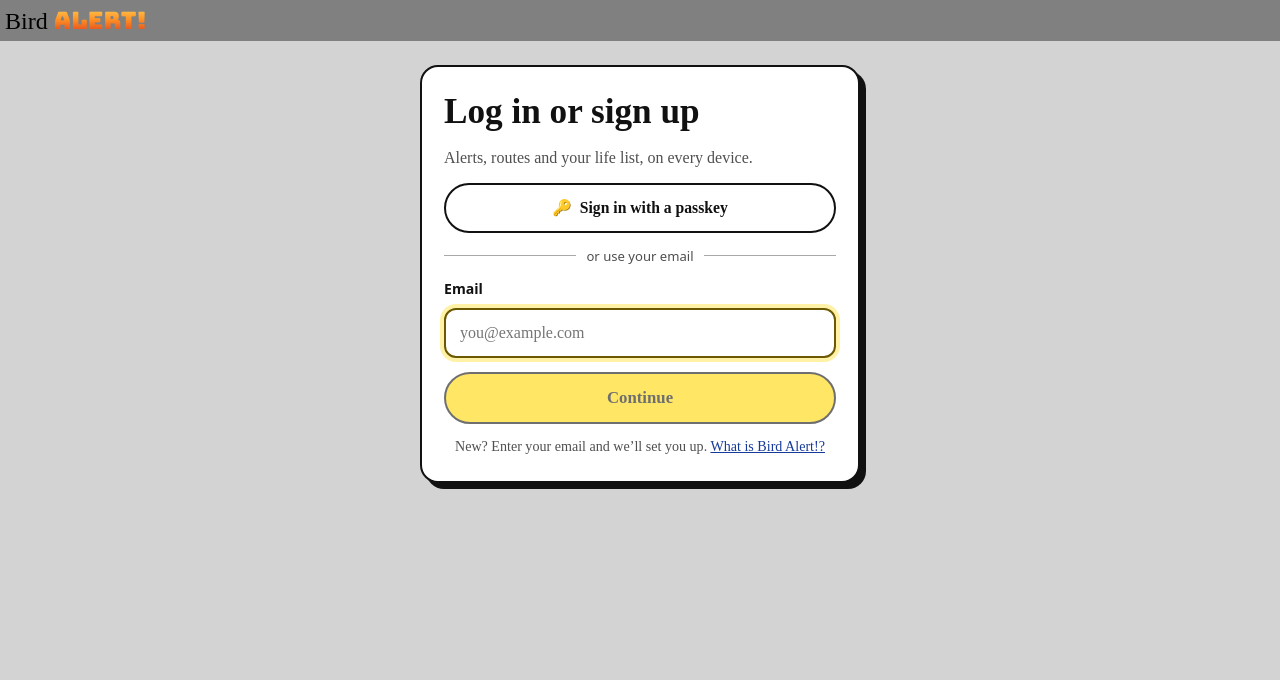
Test: Watch list sightings page › explains a link that names nothing
Type "robin@example.com" into the field with class "email" at (640, 333), box 444,308 -> 836,358
Then press Enter
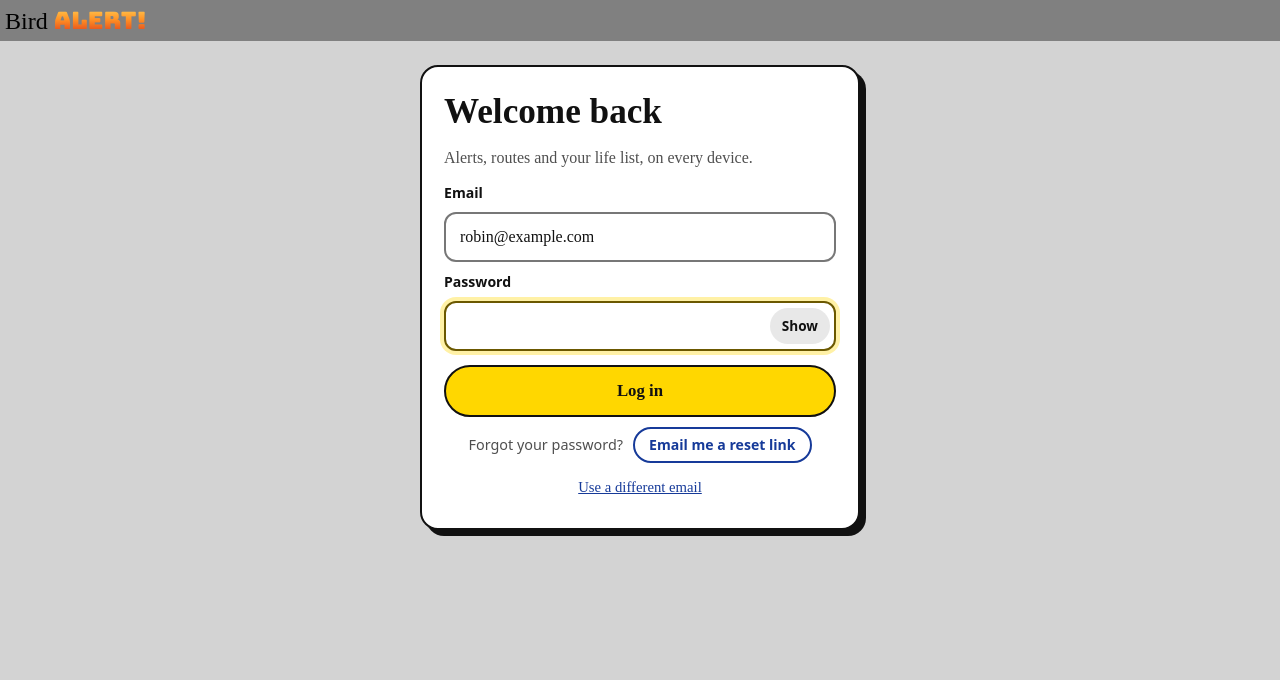
Now the password field labelled "Password" is shown
Type "1234" into the password field labelled "Password" at (640, 326), box 444,301 -> 836,351
Then press Enter
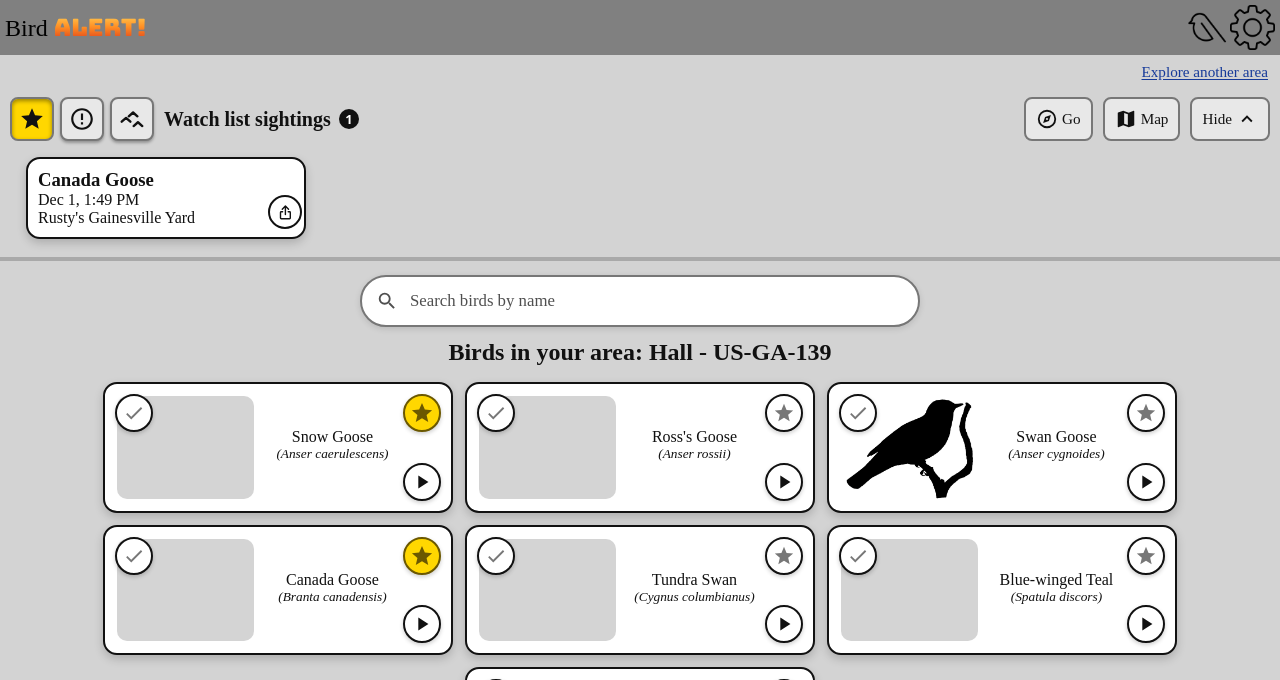
Now the element showing "Snow Goose (Anser caerulescens)" is shown, box 103,382 -> 453,513
Open "http://localhost:3000/sightings"
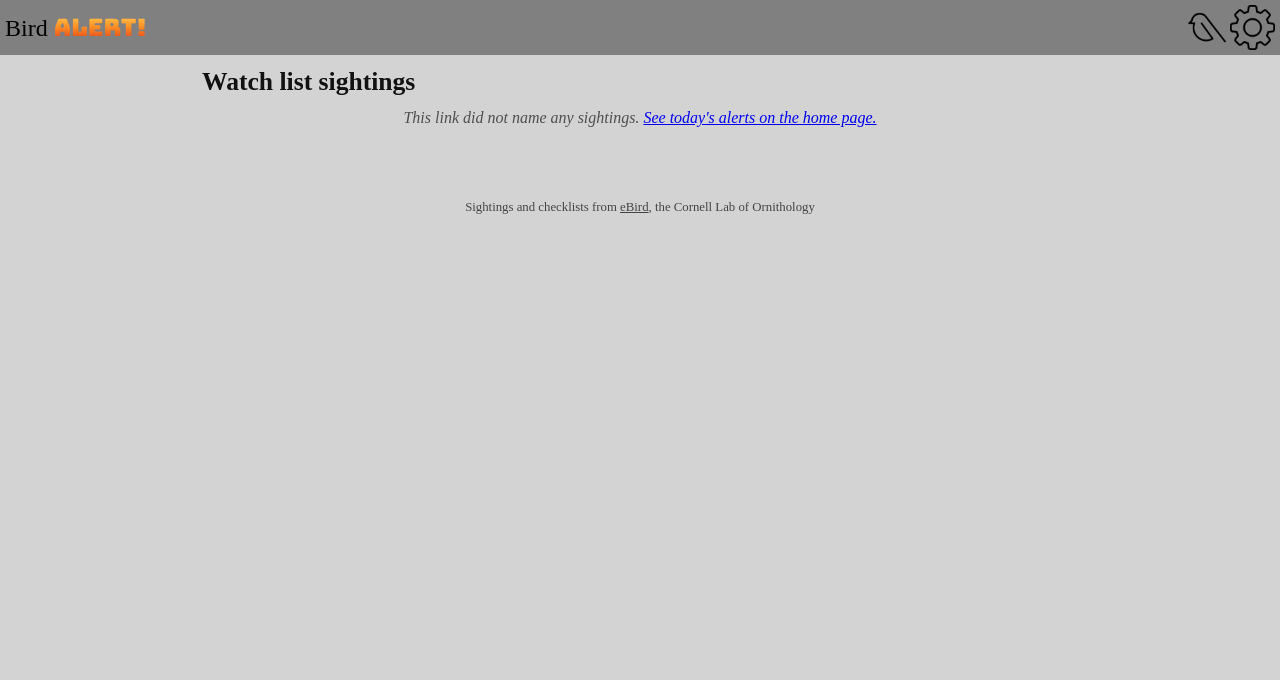
Now the text "did not name any sightings" is shown, box 403,109 -> 643,126
